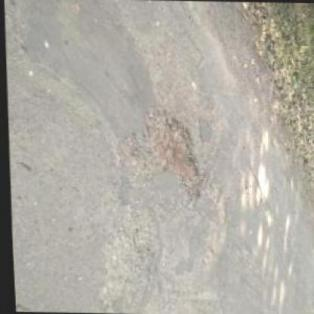Hueco: (138, 110, 201, 201)
